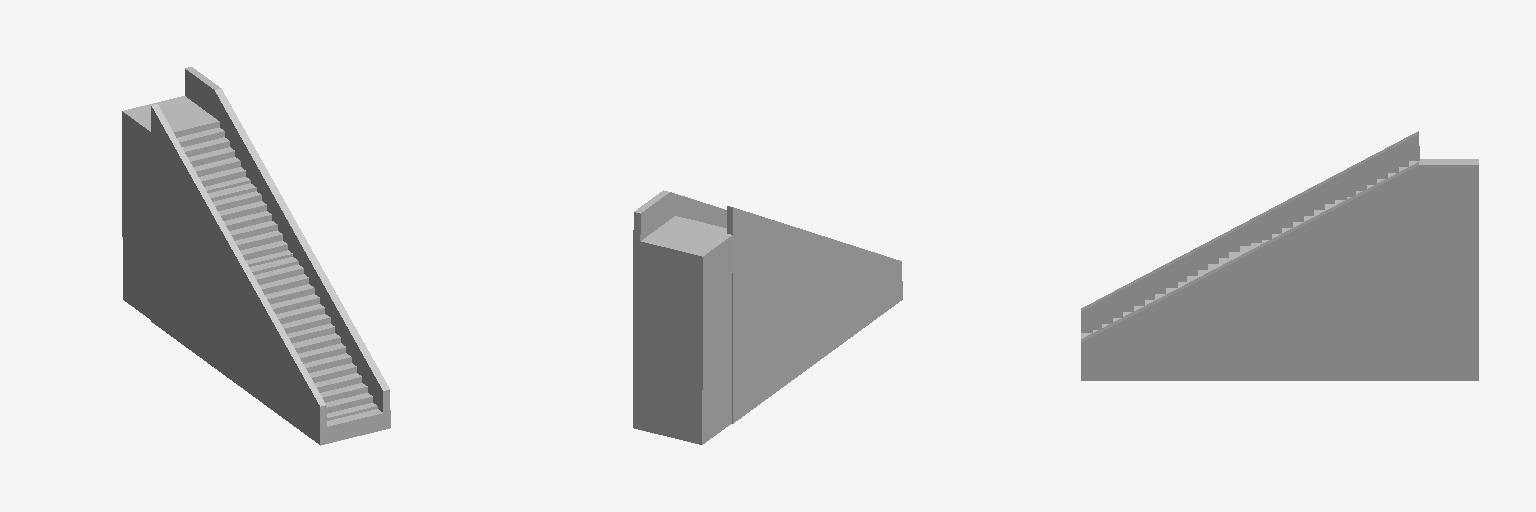
Rendered from OBJ_common_room_stairs.obj.
The picture shows the model from 3 angles: view 1: azimuth 30°, elevation 25°; view 2: azimuth 150°, elevation 25°; view 3: azimuth 270°, elevation 25°; orthographic projection.
Parts seen in each view (by area): view 1: default; view 2: default; view 3: default.
Boxes of the visible parts, <box> form: default: <box>122,67,390,445</box>; default: <box>633,190,902,444</box>; default: <box>1081,131,1478,380</box>.
Size of the model in its own units: 29.61 by 87.21 by 145.